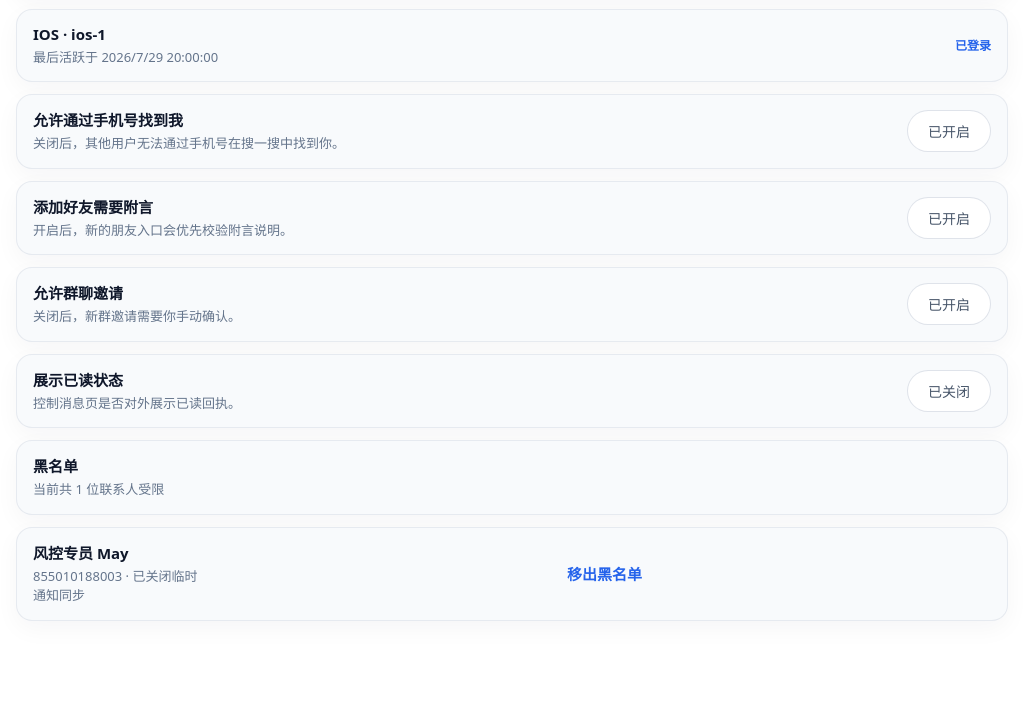
Scenario: App route entry › loads security settings and removes blacklist contact
(page scrolled)
Check: the text "风控专员 May" is shown, box [33,543,129,563]
Click the button named "移出 风控专员 May" at (605, 574), box [218,549,991,598]
(page scrolled)
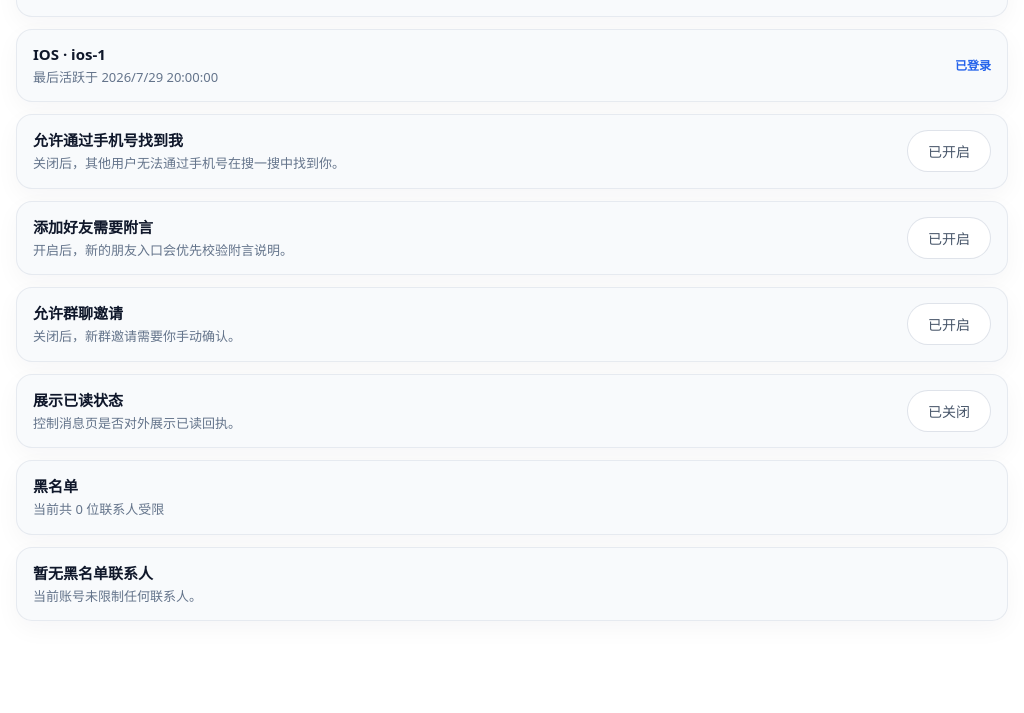
Check: the text "风控专员 May" is gone
